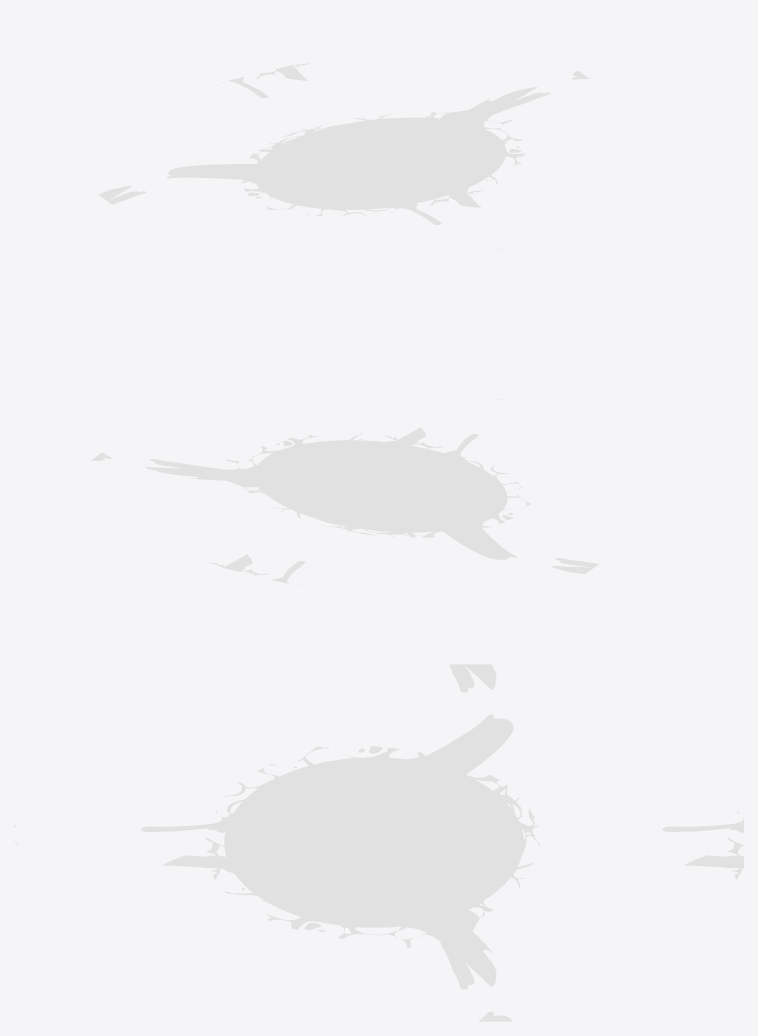
File: water_flash_move2.fbx
The picture shows the model from 3 angles, top to bottom: view 1: azimuth 30°, elevation 25°; view 2: azimuth 150°, elevation 25°; view 3: azimuth 270°, elevation 25°; orthographic projection. The views are drawn at different scales.
Parts seen in each view (by area): view 1: water_flash; view 2: water_flash; view 3: water_flash.
Part boxes in pixels (<box>): water_flash: <box>98,62,588,256</box>; water_flash: <box>91,398,598,585</box>; water_flash: <box>14,664,743,1021</box>.
Size of the model in its own units: 3147 by 0 by 2718.
Materials: 1 (1 with a texture image).
